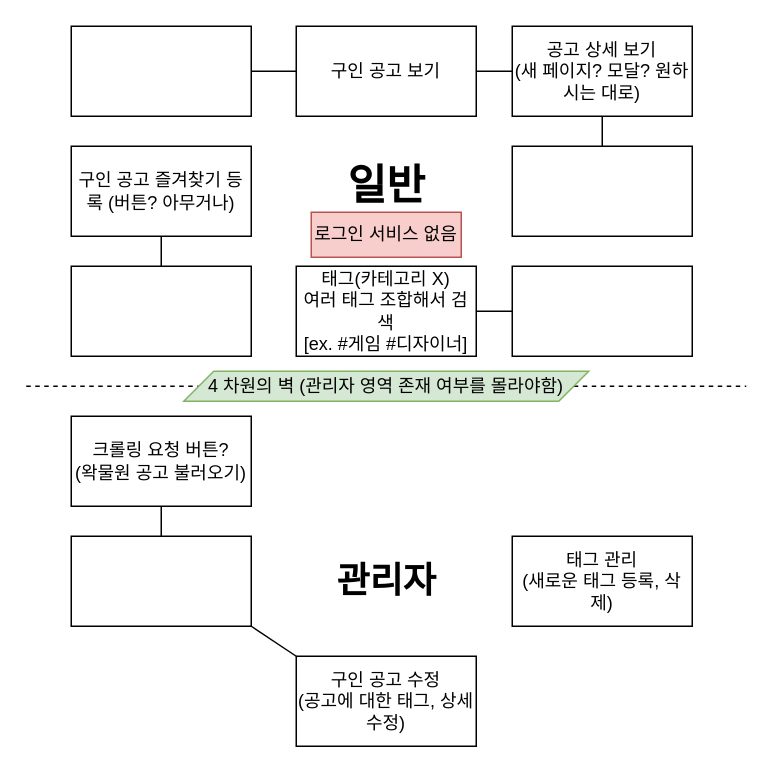
Image size: 774x773. Some labels were removed from this diagram. The shapes that lost their labels are listed below. From the top down, each one's centre as x and y in pixels, then its label:
At (160,70): "무한 스크롤? 페이지? 원하시는 대로".
At (601,190): "왁물원 원문 바로가기 (버튼? 아무거나)".
At (160,310): "즐겨찾기된 공고 모아보는 영역".
At (601,310): "태그 검색".
At (160,580): "구인 공고 관리".
